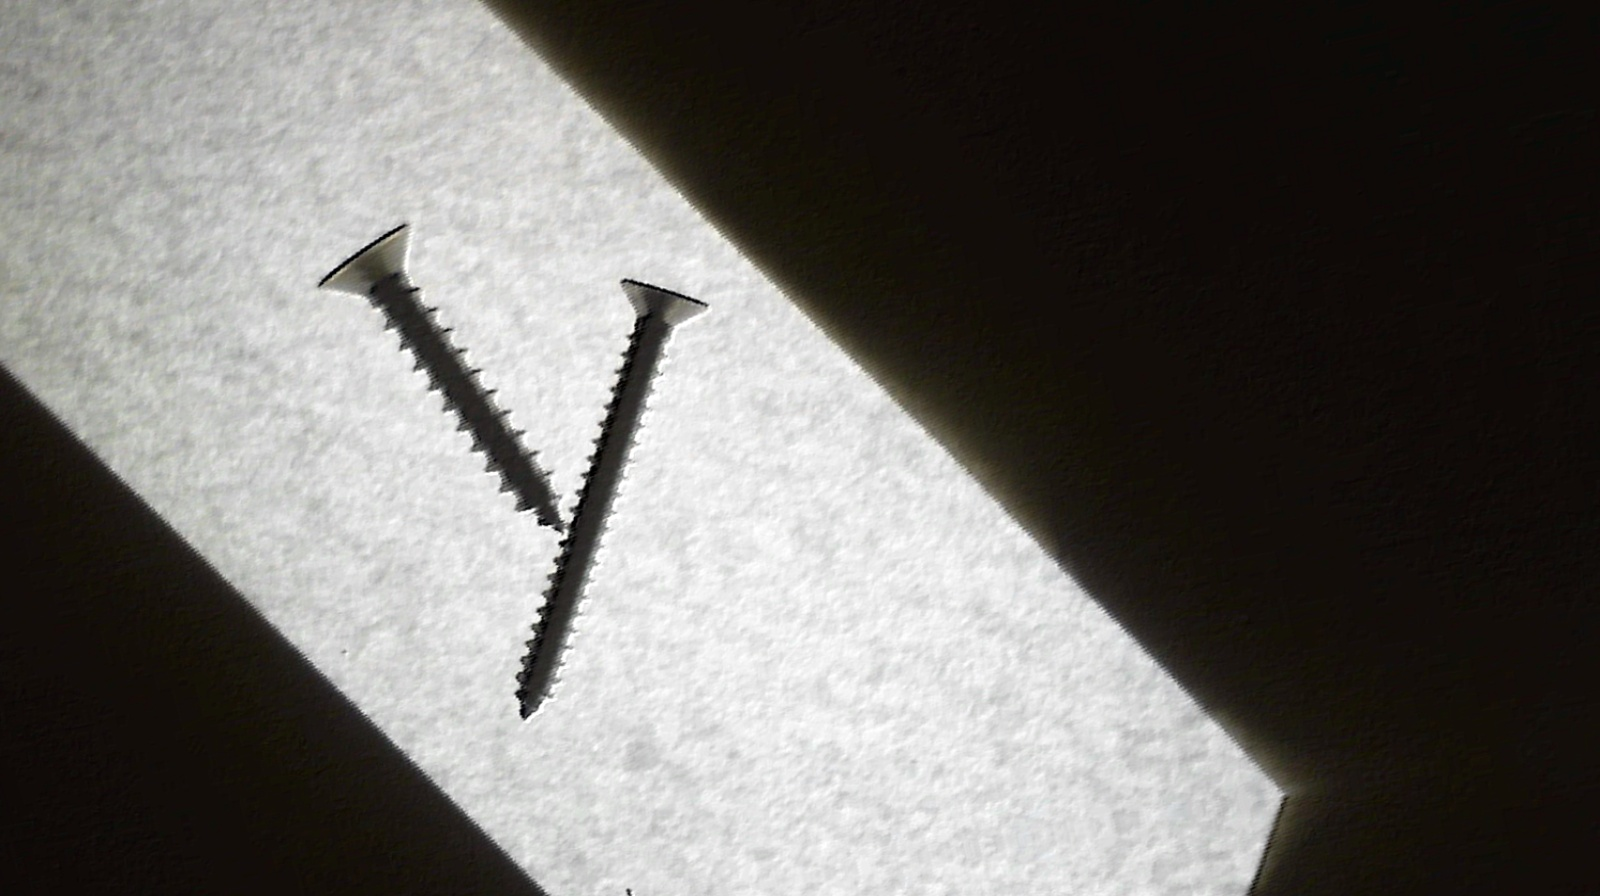S001: (290, 189, 576, 567)
S002: (402, 259, 799, 738)
